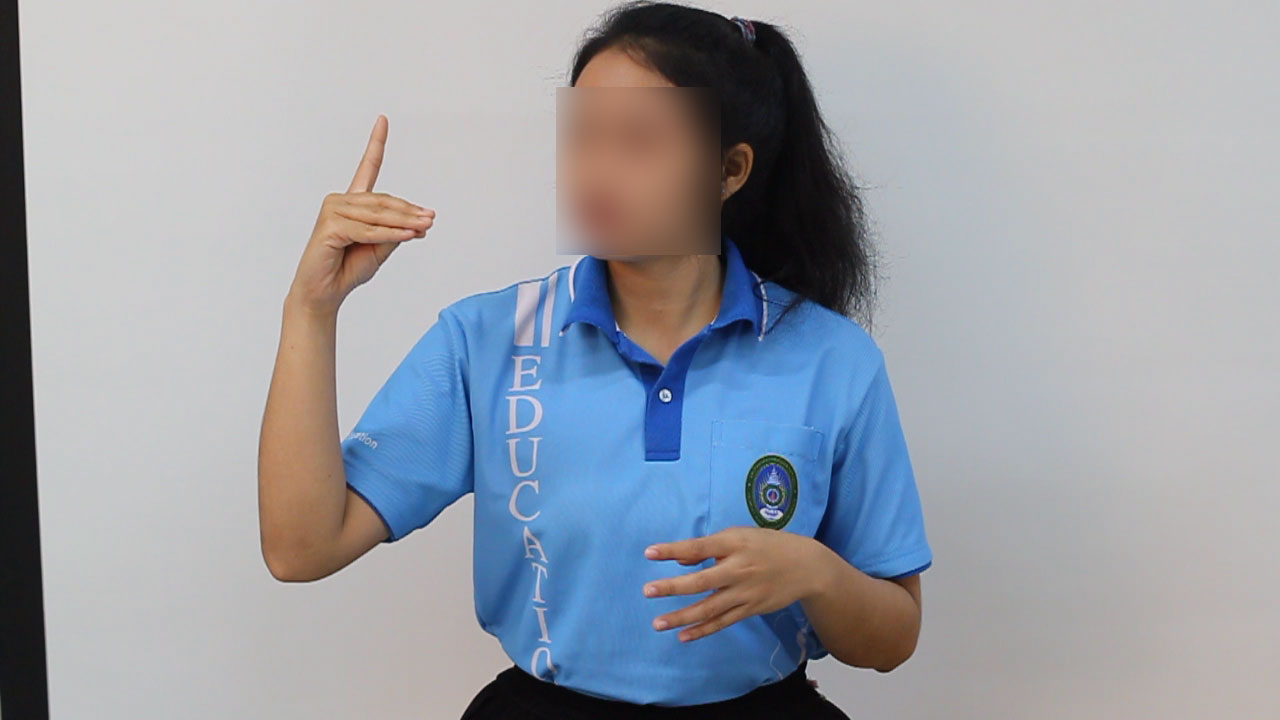dor: (279, 104, 443, 321)
